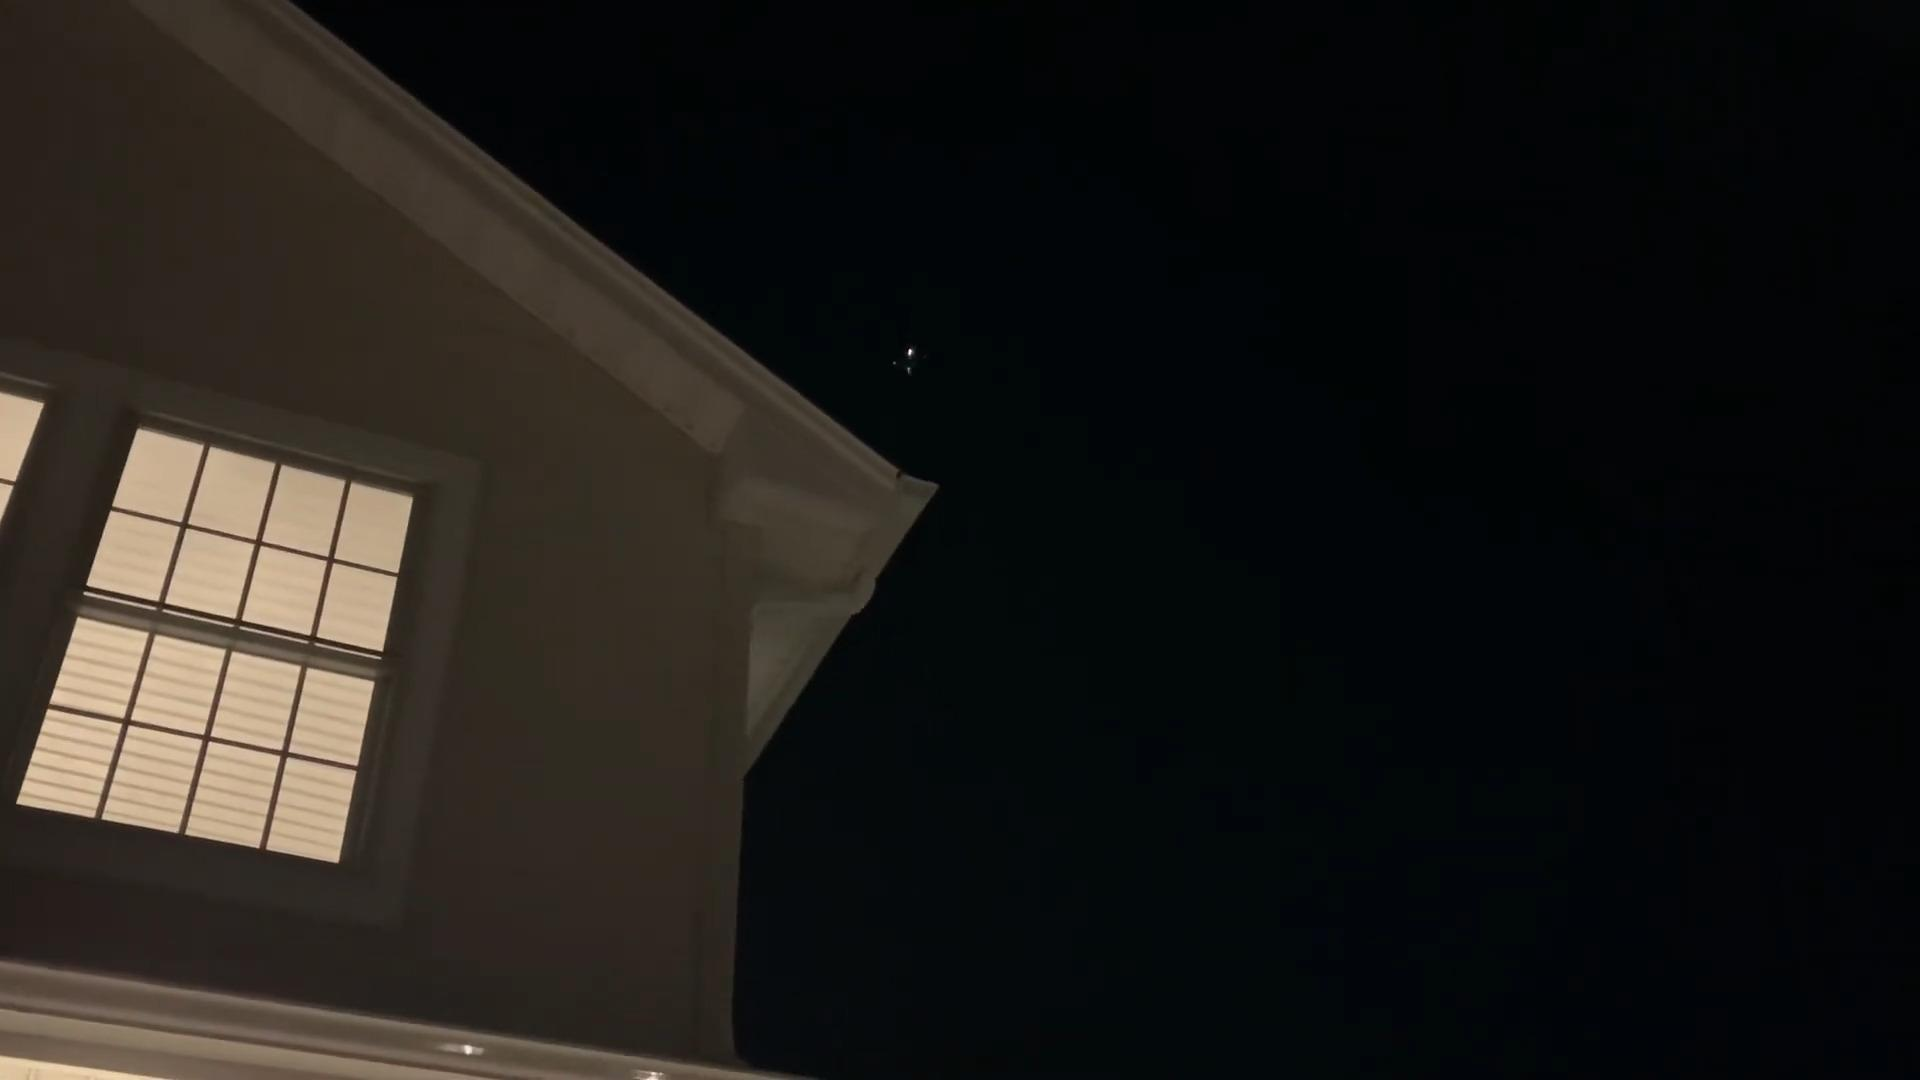Plane: (880, 342, 949, 386)
